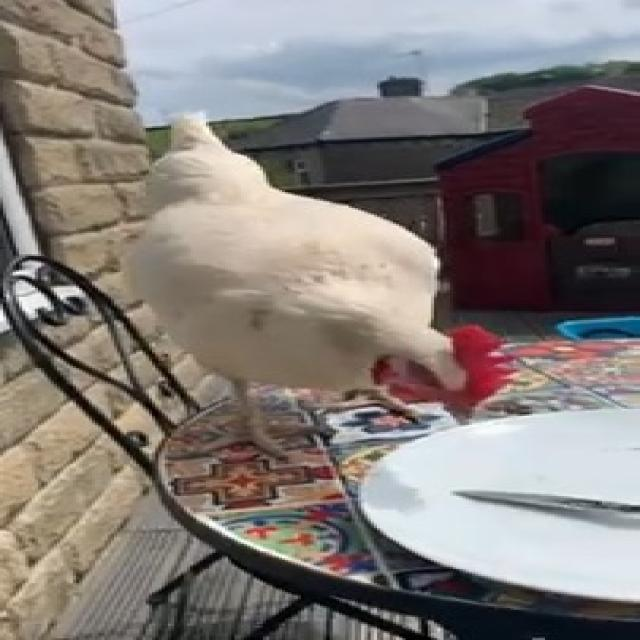pecking: (101, 94, 510, 462)
